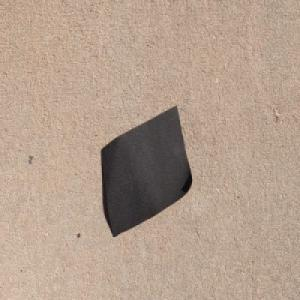PaintChip: (100, 103, 192, 237)
